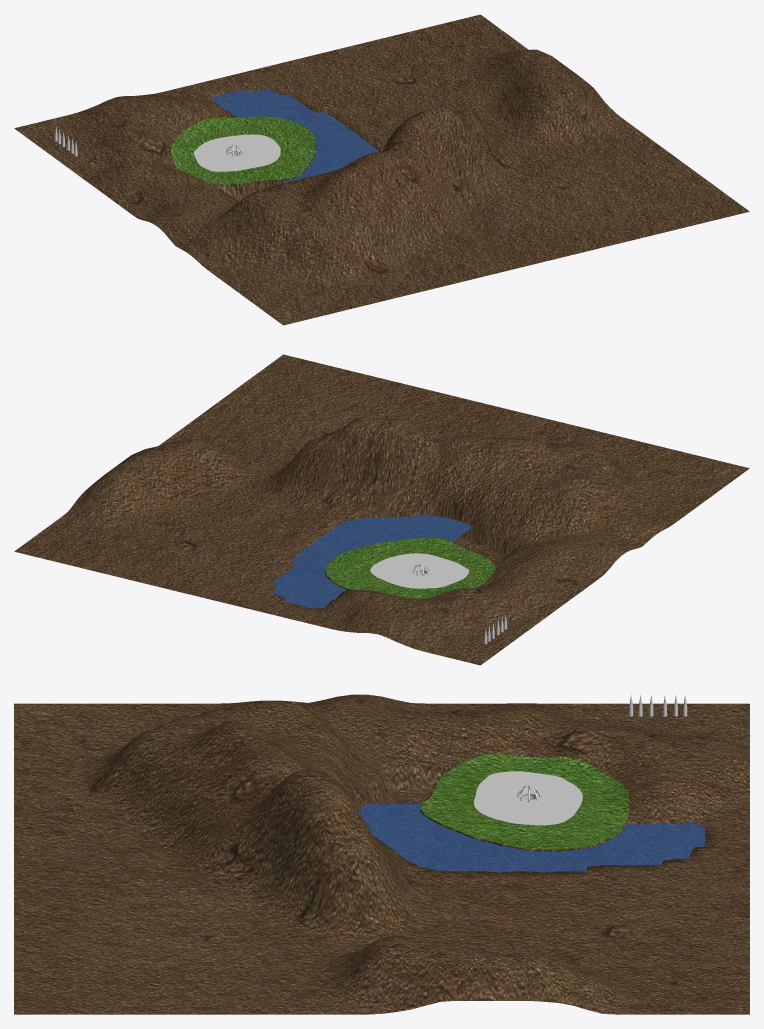
File: Hole013testingclaw.fbx
3 renders of one model, top to bottom at view 1: azimuth 30°, elevation 25°; view 2: azimuth 150°, elevation 25°; view 3: azimuth 270°, elevation 25°, orthographic. The views are drawn at different scales.
Parts seen in each view (by area): view 1: pPlane7, pPlane8; view 2: pPlane7, pPlane8; view 3: pPlane7, pPlane8.
Part boxes in pixels (box(x1,y1,x2,y2)): pPlane7: box(14, 14, 749, 325); pPlane8: box(209, 88, 378, 182); pPlane7: box(14, 354, 749, 665); pPlane8: box(271, 515, 472, 608); pPlane7: box(14, 694, 749, 1014); pPlane8: box(359, 804, 705, 872).
Size of the model in its own units: 600 by 99.2 by 600.
